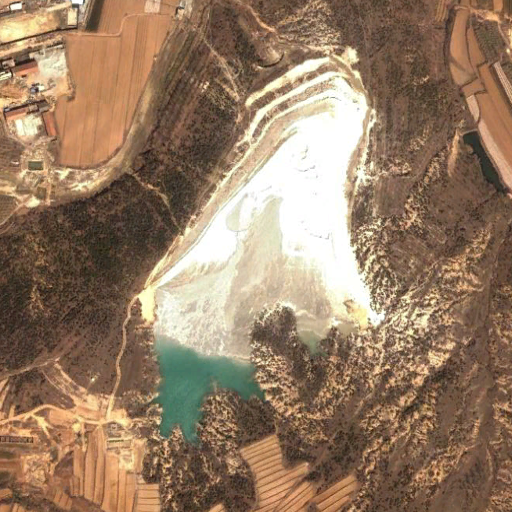tp: (141, 69, 385, 445)
